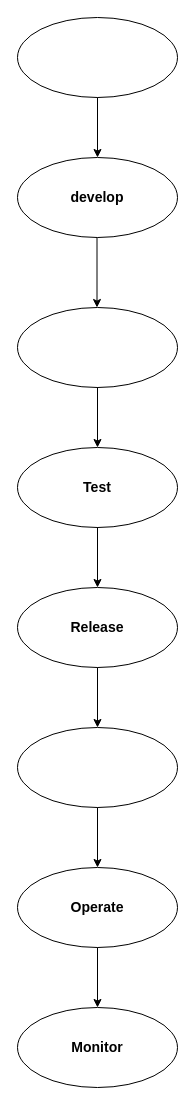
This 195x1105 diagram has some shape labels left out. Each missing label, with the centre of its shape:
"Bulid" belongs at (97,347).
"Plan" belongs at (97,57).
